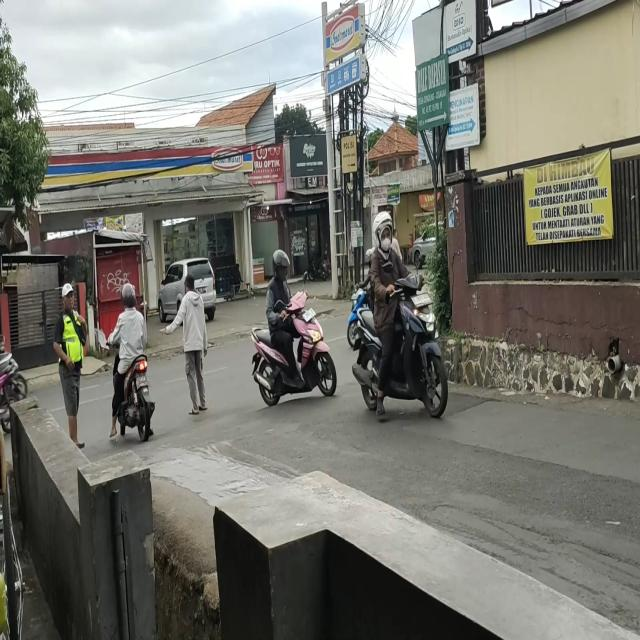helmet: (374, 210, 394, 256), (120, 280, 138, 310), (276, 248, 290, 279)
